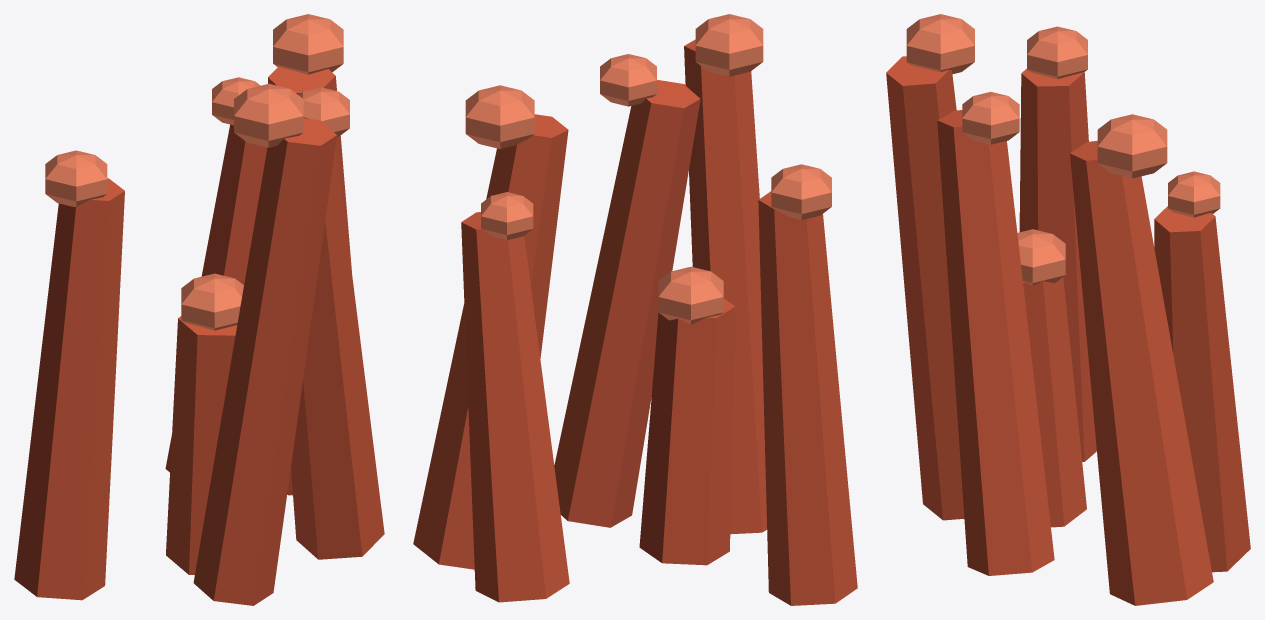
File: swamp_tubeWorm.glb
3 views of the same model, side by side, from view 1: azimuth 30°, elevation 25°; view 2: azimuth 150°, elevation 25°; view 3: azimuth 270°, elevation 25° (orthographic). The views are drawn at different scales.
Visible parts, largest first — view 1: n9, n5, n13, n1, n17, n11, n23, n3, n7, n21, n15, n19; view 2: n13, n5, n17, n9, n1, n21, n23, n11, n3, n7, n15, n19; view 3: n21, n13, n9, n17, n5, n1, n23, n11, n7, n15, n3, n19.
Boxes of the visible parts, x1,y1,x2,y2 form: n9: (193,118,336,605); n5: (14,178,124,600); n13: (291,145,384,559); n1: (166,316,237,574); n17: (165,124,266,472); n11: (234,83,303,147); n23: (273,14,343,74); n3: (181,273,243,330); n7: (45,150,107,206); n21: (267,66,351,495); n15: (298,87,349,136); n19: (212,77,260,125); n13: (554,80,700,527); n5: (758,191,857,605); n17: (461,212,569,602); n9: (684,39,767,534); n1: (639,298,735,565); n21: (413,114,568,569); n23: (465,85,534,148); n11: (695,14,763,76); n3: (658,266,723,324); n7: (771,164,831,220); n15: (600,54,656,106); n19: (481,192,533,240); n21: (1070,140,1213,605); n13: (937,110,1054,575); n9: (886,56,964,520); n17: (1154,206,1250,572); n5: (1019,68,1096,461); n1: (1023,277,1086,527); n23: (1097,114,1167,178); n11: (906,14,974,74); n7: (1027,26,1087,79); n15: (962,92,1019,144); n3: (1017,229,1065,285); n19: (1168,171,1220,217).
Size of the model in its own units: 2.21 by 2.83 by 1.87.
